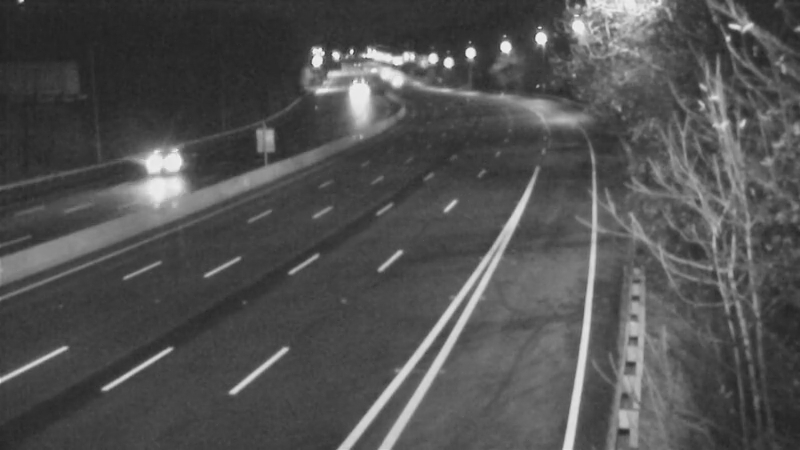vehicle: (108, 123, 188, 203), (370, 56, 420, 106), (332, 70, 382, 120)
